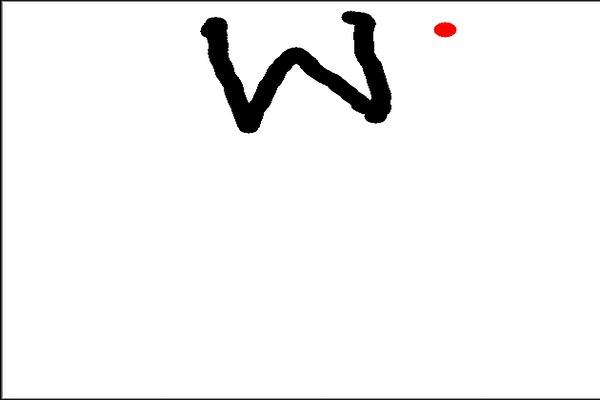w: (188, 7, 409, 145)
